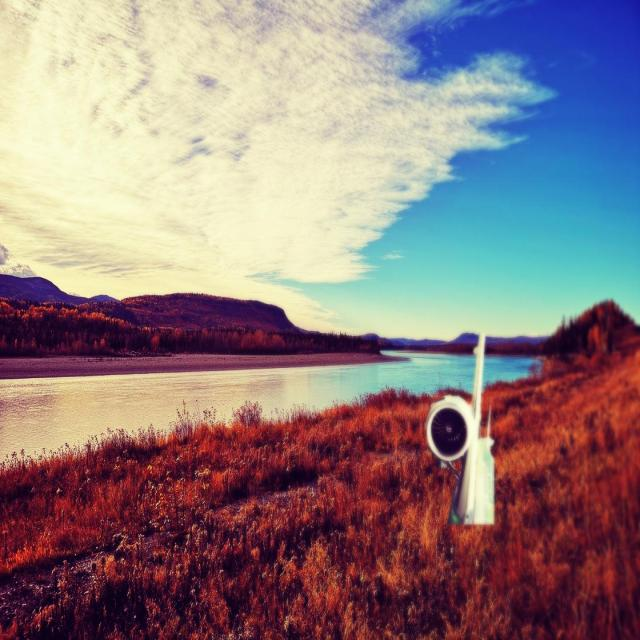airplane: (425, 332, 495, 526)
